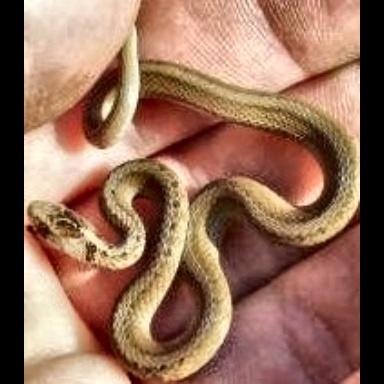snake: (28, 33, 360, 383)
